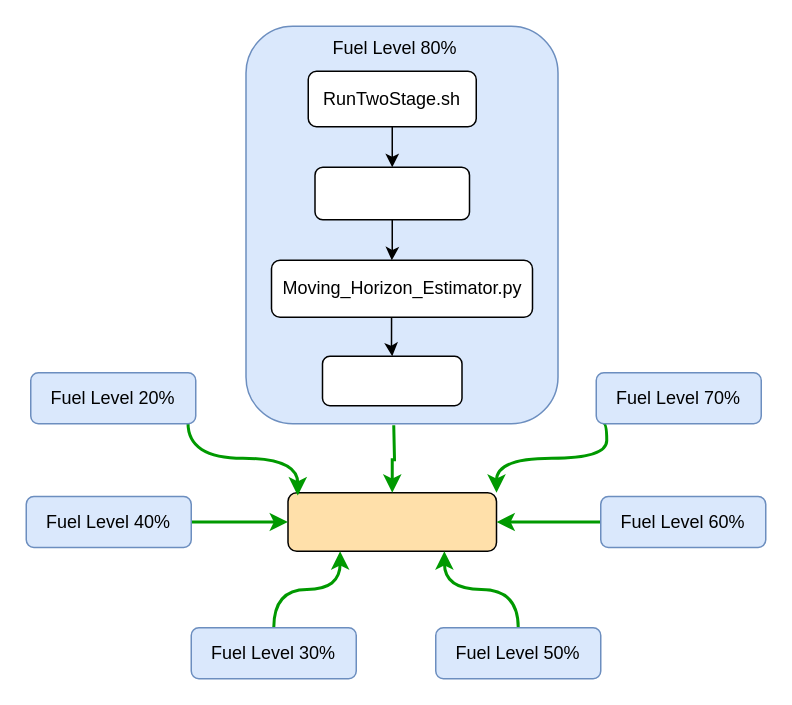
The diagram is 792 pixels wide and 705 high, and some of its shapes have lost their labels. The shapes that lost their labels are listed below. From the top down, each one's centre as x and y in pixels, then its label:
point 392,193: Merge_data.py
point 391,380: Curve_Fit.py
point 391,521: Build_Full_model.py
